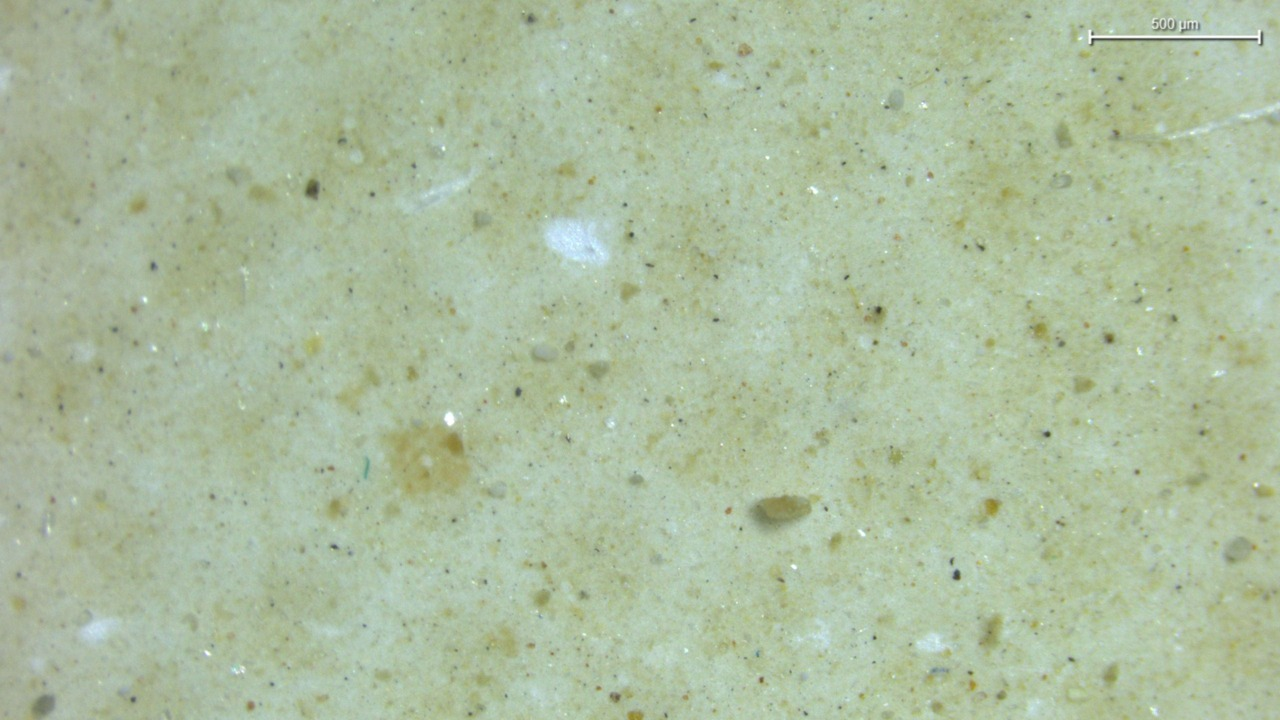microplastic_fragment: (757, 495, 811, 523), (531, 345, 559, 361)
